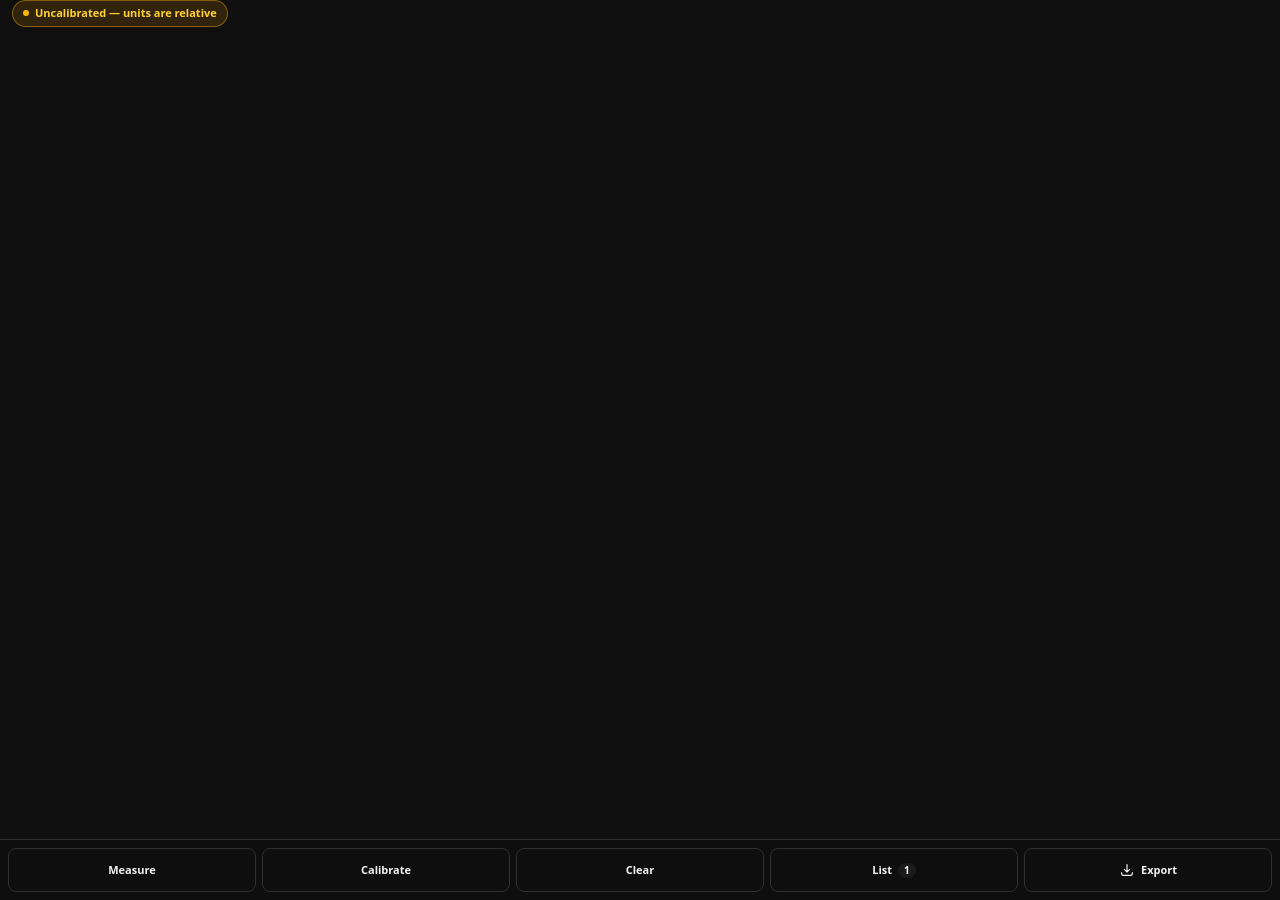
Test: measure toolbar › asks before clearing everything
Check: the button "List 1" is shown, box 770,848 -> 1018,892
Click the button "Clear".
click(640, 870)  # box 516,848 -> 764,892
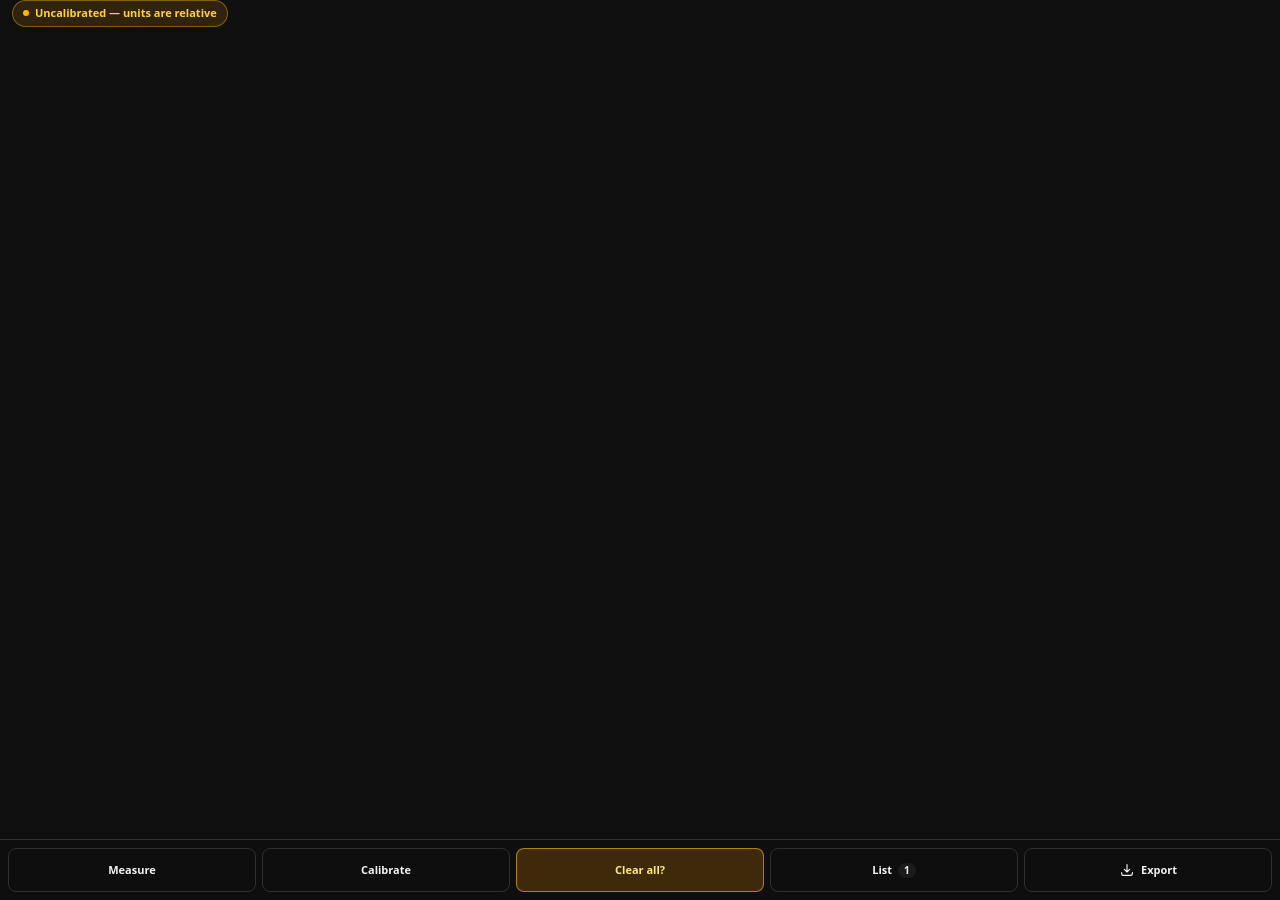
Check: the button "Clear all?" is shown, box 516,848 -> 764,892
